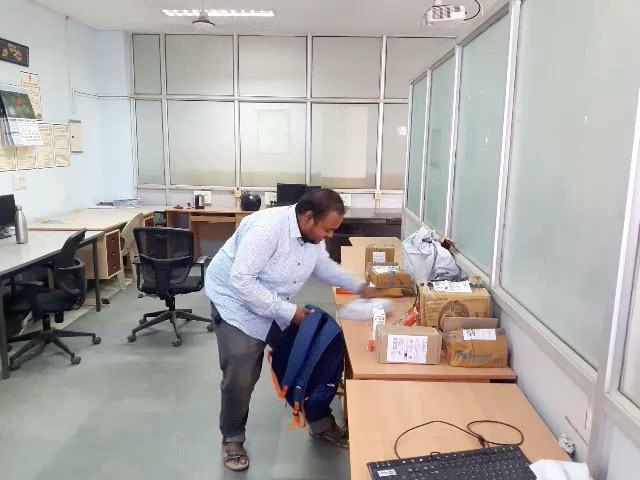shoplifting: (101, 224, 479, 434)
